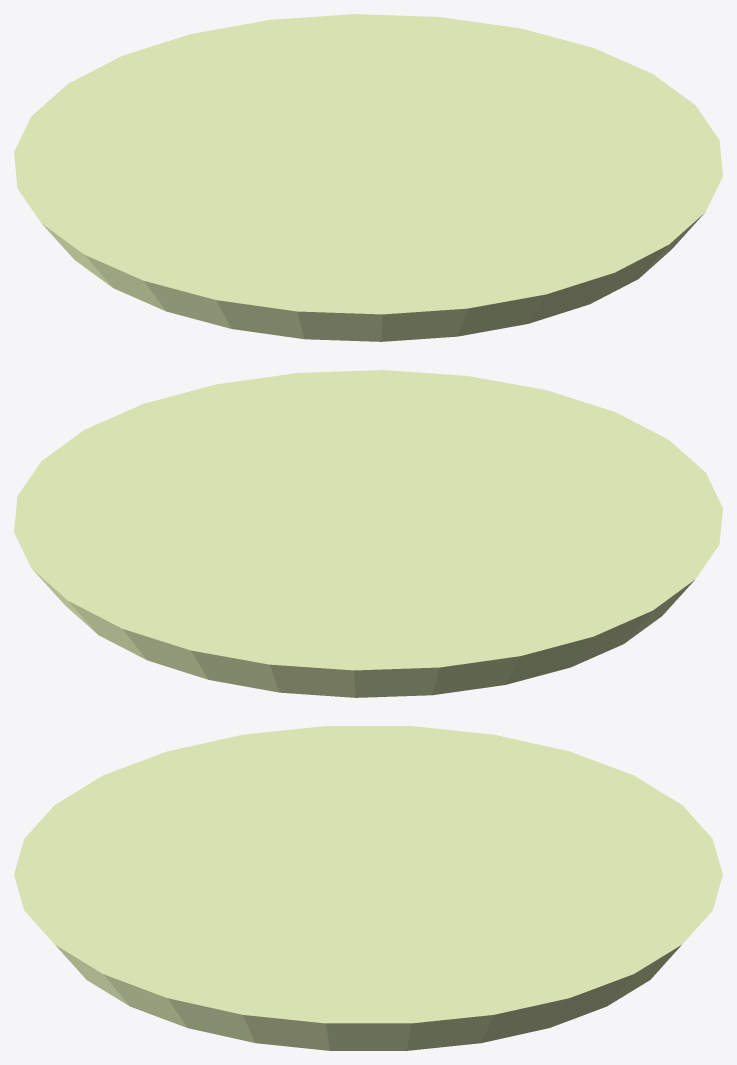
Rendered from LargeConnector2.fbx.
3 renders of one model, top to bottom at view 1: azimuth 30°, elevation 25°; view 2: azimuth 150°, elevation 25°; view 3: azimuth 270°, elevation 25°, orthographic.
Visible parts, largest first — view 1: Cylinder.047; view 2: Cylinder.047; view 3: Cylinder.047.
Boxes of the visible parts, x1=… form: Cylinder.047: x1=14, y1=14, x2=722, y2=341; Cylinder.047: x1=14, y1=370, x2=722, y2=697; Cylinder.047: x1=14, y1=726, x2=722, y2=1050.
Size of the model in its own units: 11985 by 800 by 12073.
